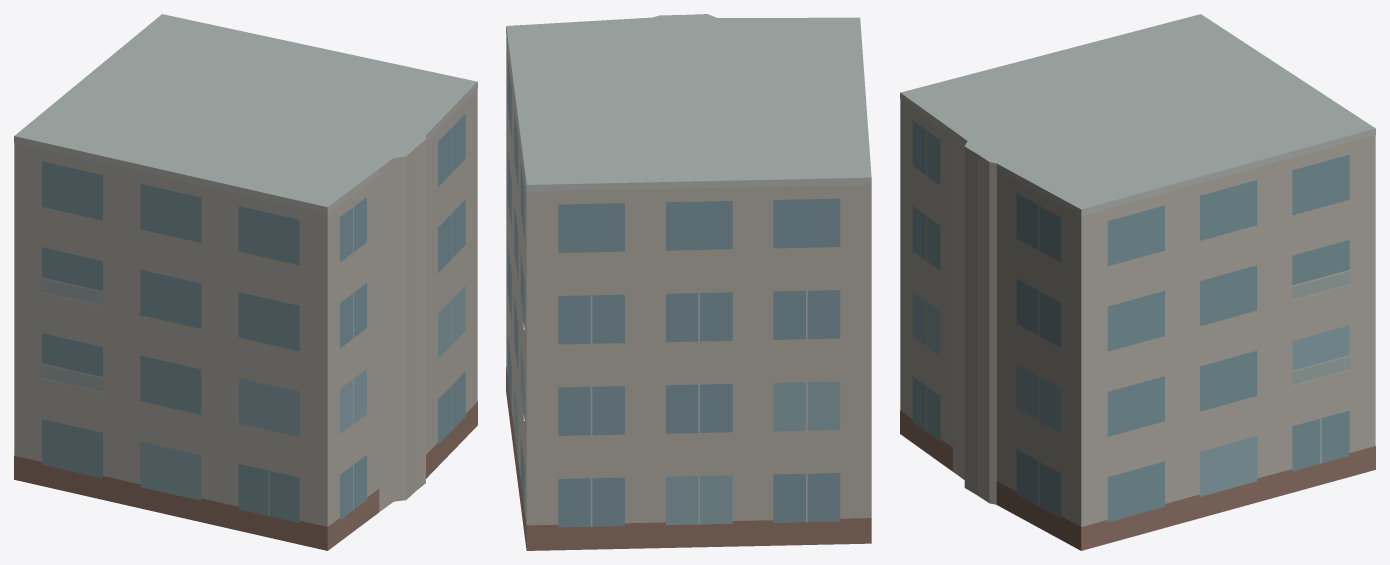
Rendered from survey-upis-32506989.glb.
The picture shows the model from 3 angles, left to right: view 1: azimuth 30°, elevation 25°; view 2: azimuth 150°, elevation 25°; view 3: azimuth 270°, elevation 25°; orthographic projection. The views are drawn at different scales.
Parts seen in each view (by area): view 1: survey-upis-32506989.tmp; view 2: survey-upis-32506989.tmp; view 3: survey-upis-32506989.tmp.
Part boxes in pixels (x1=…): survey-upis-32506989.tmp: x1=14, y1=14, x2=477, y2=550; survey-upis-32506989.tmp: x1=506, y1=14, x2=871, y2=550; survey-upis-32506989.tmp: x1=900, y1=14, x2=1375, y2=550.
Bounding box in the file's own units: 15.73 × 12.8 × 16.17.
